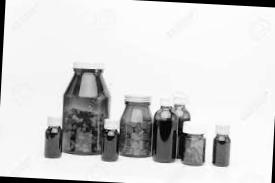glass: (52, 48, 116, 158), (111, 84, 156, 160), (205, 119, 236, 172)
